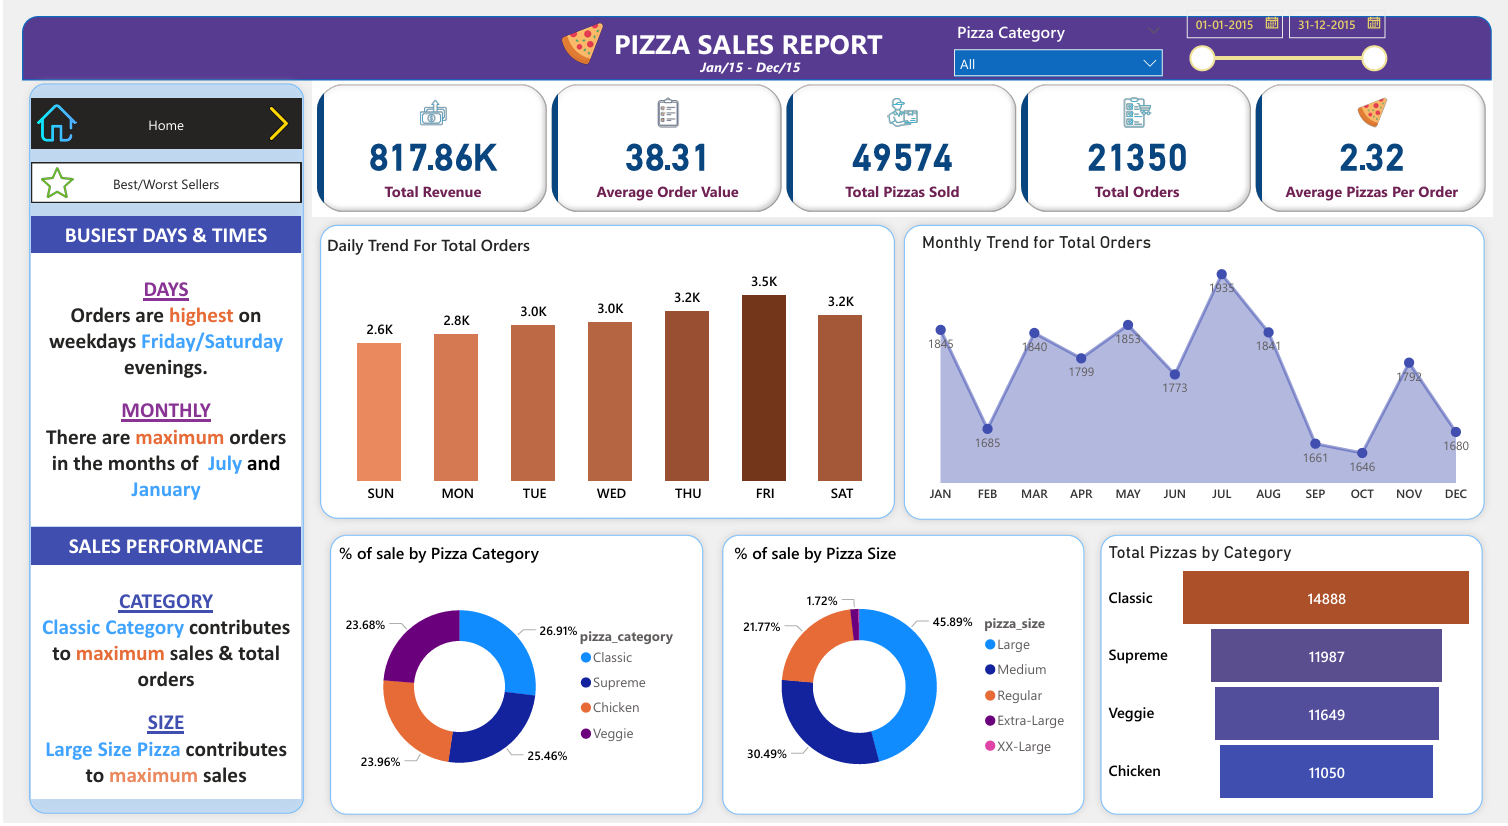

Layout of this report page (visuals, bound fields, positions):
{"tool":"powerbi","page":{"name":"Home","canvas":[1500,820],"ordinal":0},"visuals":[{"type":"cardVisual","fields":{"Data":["pizza_sales.Total_Revenue","pizza_sales.Average_Order_Value","pizza_sales.Total_Pizzas_Sold","pizza_sales.Total_Orders","pizza_sales.Average_Pizzas_Per_Order"]},"box":[307.8,79.4,1176.8,136.5],"z":0},{"type":"shape","box":[18.6,15.7,1465,64.3],"z":1000},{"type":"textbox","box":[604.3,20,291.4,55.7],"z":2000},{"type":"textbox","box":[690,52.9,120,44.3],"z":3000},{"type":"shape","box":[307.8,215.9,589.1,309.2],"z":4000},{"type":"columnChart","title":"Daily Trend For Total Orders","fields":{"Category":["pizza_sales.Order Day"],"Y":["pizza_sales.Total Orders"]},"box":[317.5,232.6,578,278.5],"z":5000},{"type":"shape","box":[889.9,215.9,594.7,310.6],"z":6000},{"type":"stackedAreaChart","title":"Monthly Trend for Total Orders","fields":{"Y":["pizza_sales.Total Orders"],"Category":["pizza_sales.Order Month"]},"box":[910.8,231.2,561.2,278.5],"z":7000},{"type":"shape","box":[317.5,525,388.6,295.2],"z":8000},{"type":"shape","box":[708.9,525,377.4,295.2],"z":9000},{"type":"shape","box":[1086.3,525,396.9,295.2],"z":10000},{"type":"donutChart","title":"% of sale by Pizza Category","fields":{"Category":["pizza_sales.pizza_category"],"Y":["pizza_sales.Total Revenue"]},"box":[330.1,540.4,359.3,266],"z":11000},{"type":"donutChart","title":"% of sale by Pizza Size","fields":{"Category":["pizza_sales.pizza_size"],"Y":["pizza_sales.Total Revenue"]},"box":[724.2,540.4,348.2,266],"z":12000},{"type":"shape","box":[18.1,75.2,289.7,743.7],"z":13000},{"type":"funnel","title":"Total Pizzas by Category","fields":{"Category":["pizza_sales.pizza_category"],"Y":["pizza_sales.Total Pizzas Sold"]},"box":[1097.4,540.4,374.6,266],"z":14000},{"type":"textbox","box":[27.9,215.9,268.8,37.6],"z":15000},{"type":"textbox","box":[27.9,253.5,268.8,271.6],"z":15001},{"type":"textbox","box":[27.9,526.4,268.8,37.6],"z":15002},{"type":"textbox","box":[27.9,564,268.8,232.6],"z":15003},{"type":"slicer","fields":{"Values":["pizza_sales.pizza_category"]},"box":[938,16,228,60],"z":15004},{"type":"slicer","fields":{"Values":["pizza_sales.order_date"]},"box":[1166.7,0,221.7,75],"z":15005},{"type":"pageNavigator","box":[28.3,98.3,268.3,50],"z":15006},{"type":"pageNavigator","box":[28.3,161.7,268.3,40],"z":15007},{"type":"image","box":[253.3,98.3,43.3,48.3],"z":15008},{"type":"image","box":[28.3,98.3,50,48.3],"z":15009},{"type":"image","box":[33.3,158.3,41.7,46.7],"z":15010},{"type":"image","box":[546.7,16.7,60,53.3],"z":15011}]}

Visuals, with their boxes in screenshot pixels (x1, y1, x2, y2), scaled from the page's 1500x820 canvas onto the 1508x826 screenshot:
cardVisual - pizza_sales.Total_Revenue x pizza_sales.Average_Order_Value: x1=309, y1=80, x2=1493, y2=217
shape: x1=19, y1=16, x2=1492, y2=81
textbox: x1=608, y1=20, x2=900, y2=76
textbox: x1=694, y1=53, x2=814, y2=98
shape: x1=309, y1=217, x2=902, y2=529
"Daily Trend For Total Orders" columnChart: x1=319, y1=234, x2=900, y2=515
shape: x1=895, y1=217, x2=1493, y2=530
"Monthly Trend for Total Orders" stackedAreaChart: x1=916, y1=233, x2=1480, y2=513
shape: x1=319, y1=529, x2=710, y2=825
shape: x1=713, y1=529, x2=1092, y2=825
shape: x1=1092, y1=529, x2=1491, y2=825
"% of sale by Pizza Category" donutChart: x1=332, y1=544, x2=693, y2=812
"% of sale by Pizza Size" donutChart: x1=728, y1=544, x2=1078, y2=812
shape: x1=18, y1=76, x2=309, y2=825
"Total Pizzas by Category" funnel: x1=1103, y1=544, x2=1480, y2=812
textbox: x1=28, y1=217, x2=298, y2=255
textbox: x1=28, y1=255, x2=298, y2=529
textbox: x1=28, y1=530, x2=298, y2=568
textbox: x1=28, y1=568, x2=298, y2=802
slicer - pizza_sales.pizza_category: x1=943, y1=16, x2=1172, y2=77
slicer - pizza_sales.order_date: x1=1173, y1=0, x2=1396, y2=76
pageNavigator: x1=28, y1=99, x2=298, y2=149
pageNavigator: x1=28, y1=163, x2=298, y2=203
image: x1=255, y1=99, x2=298, y2=148
image: x1=28, y1=99, x2=79, y2=148
image: x1=33, y1=159, x2=75, y2=206
image: x1=550, y1=17, x2=610, y2=71
